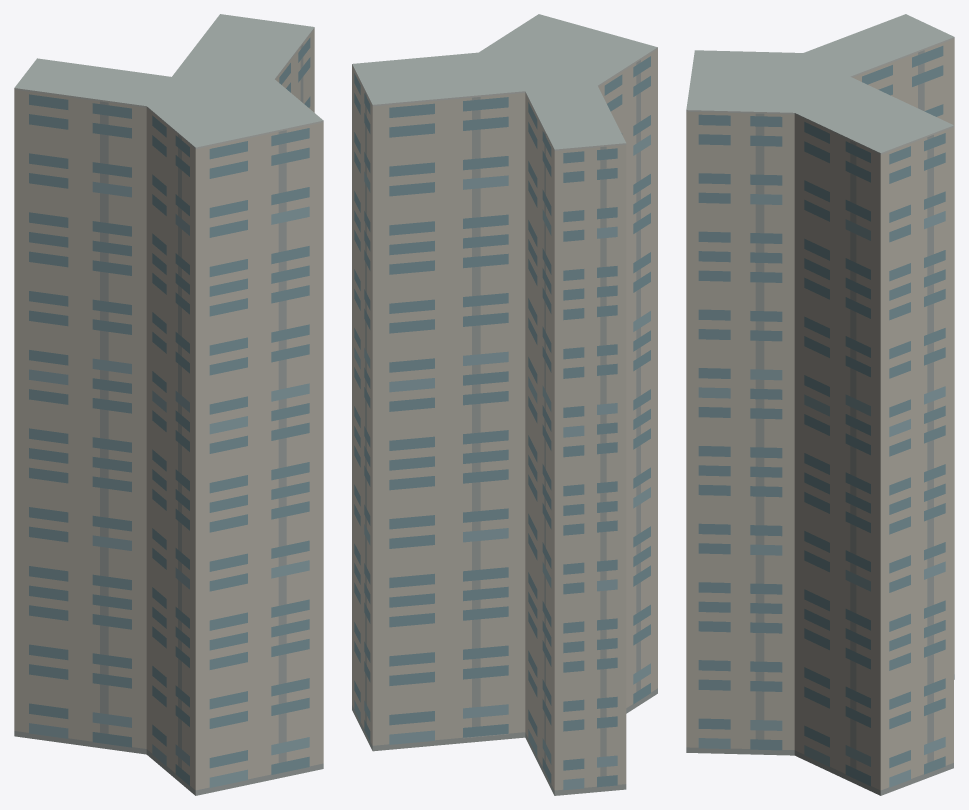
Rendered from residential-e0928f53-3110-4fd1-a5e5-4852deba906a.glb.
3 views of the same model, side by side, from view 1: azimuth 30°, elevation 25°; view 2: azimuth 150°, elevation 25°; view 3: azimuth 270°, elevation 25° (orthographic).
Parts seen in each view (by area): view 1: residential-e0928f53-3110-4fd1-a5e5-4852deba906a.tmp; view 2: residential-e0928f53-3110-4fd1-a5e5-4852deba906a.tmp; view 3: residential-e0928f53-3110-4fd1-a5e5-4852deba906a.tmp.
Part boxes in pixels (x1,y1,x2,y2): residential-e0928f53-3110-4fd1-a5e5-4852deba906a.tmp: (14,14,323,795); residential-e0928f53-3110-4fd1-a5e5-4852deba906a.tmp: (352,14,657,795); residential-e0928f53-3110-4fd1-a5e5-4852deba906a.tmp: (686,14,954,795).
Size of the model in its own units: 44.61 by 96 by 36.35.
